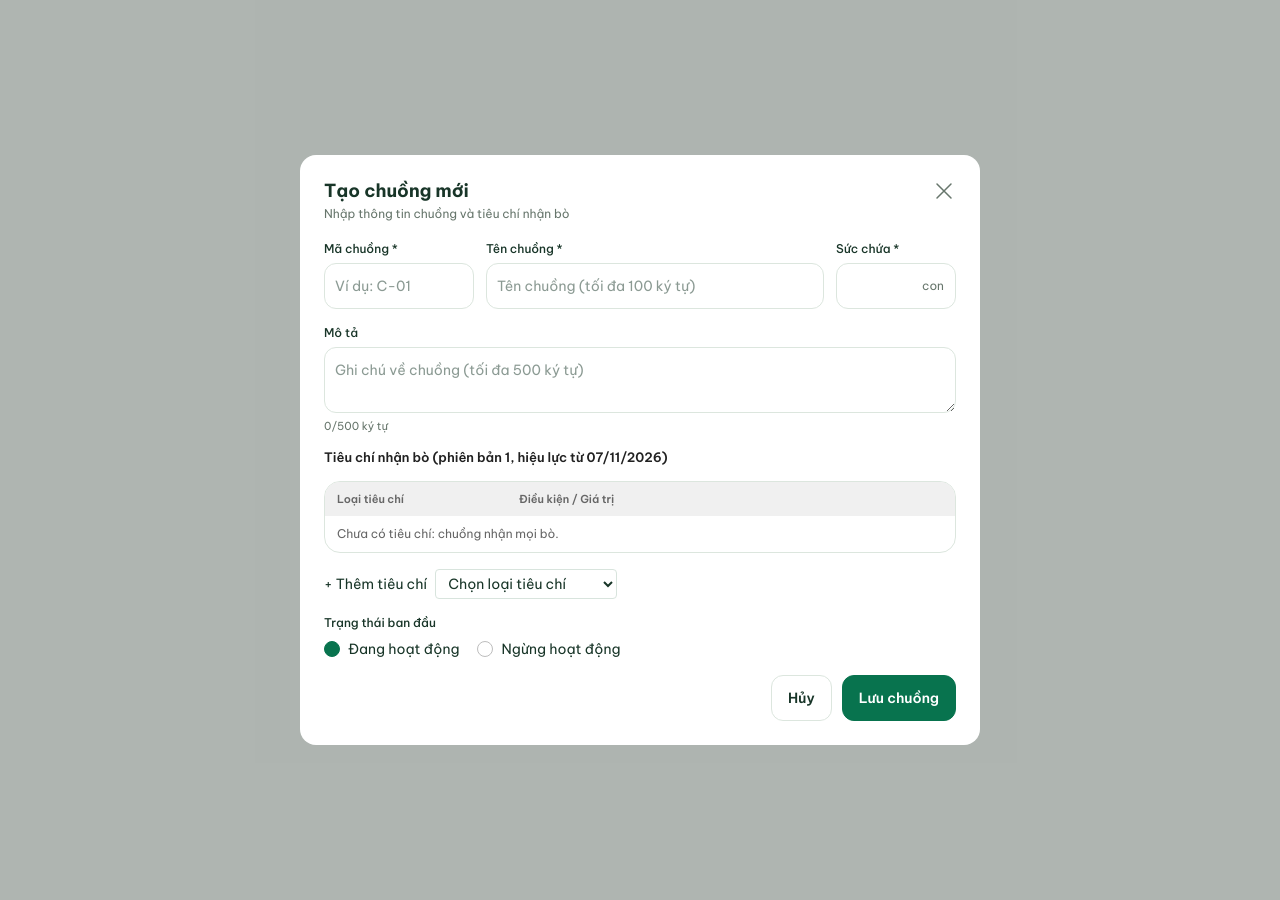
Test: Create / Edit Pen popup › blocks saving with the field errors of the spec
Click the button "Lưu chuồng".
click(899, 698)  # box [842,675,956,721]
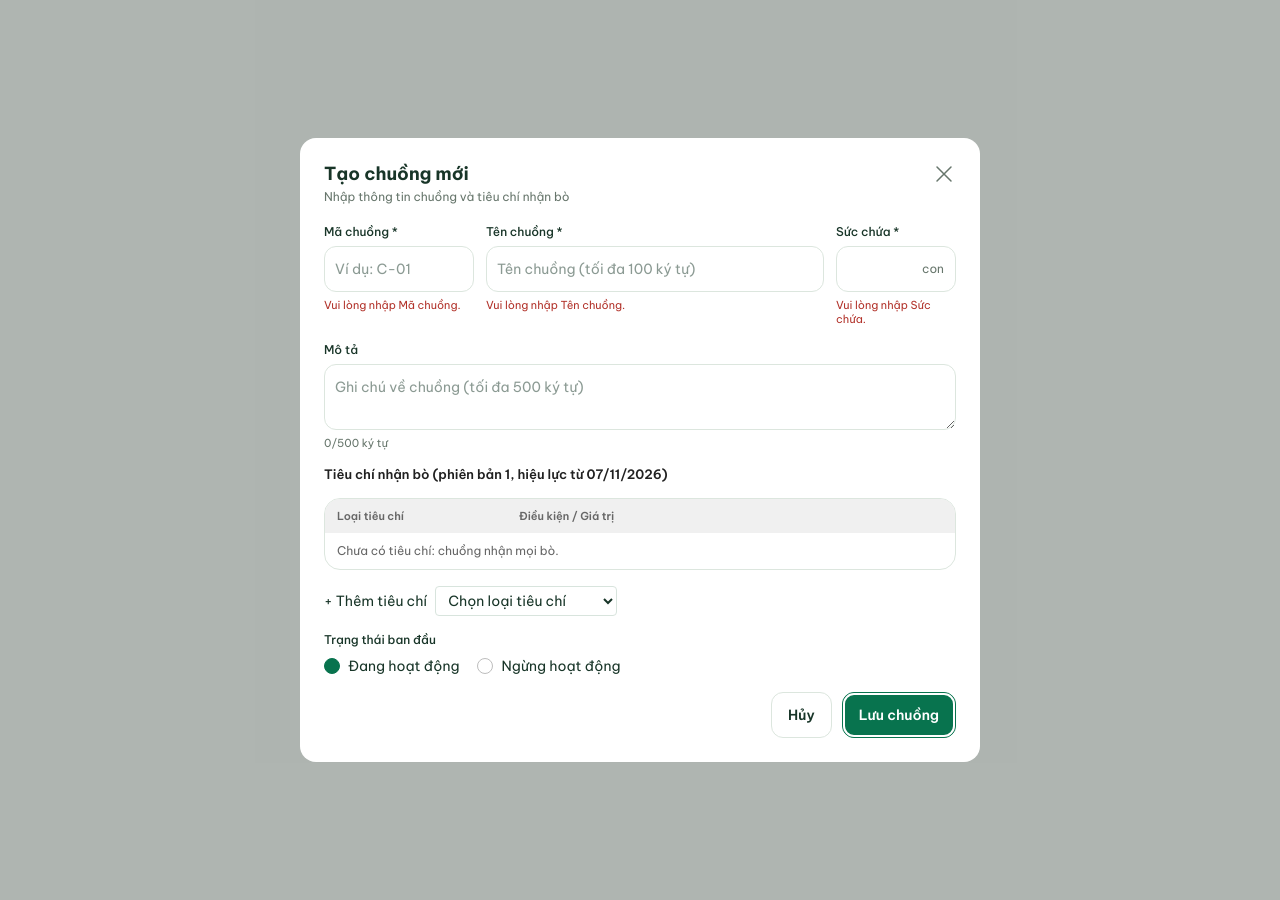
Now the text "Vui lòng nhập Mã chuồng." is shown, box [324,298,474,312]
Now the text "Vui lòng nhập Tên chuồng." is shown, box [486,298,625,312]
Now the text "Vui lòng nhập Sức chứa." is shown, box [836,298,931,326]
